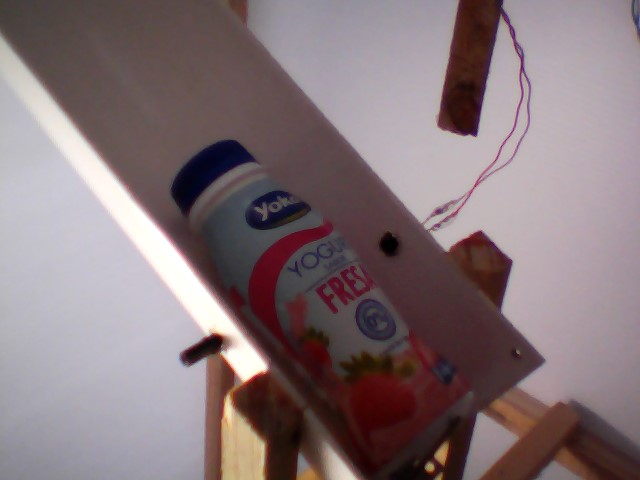plastico: (159, 128, 485, 476)
